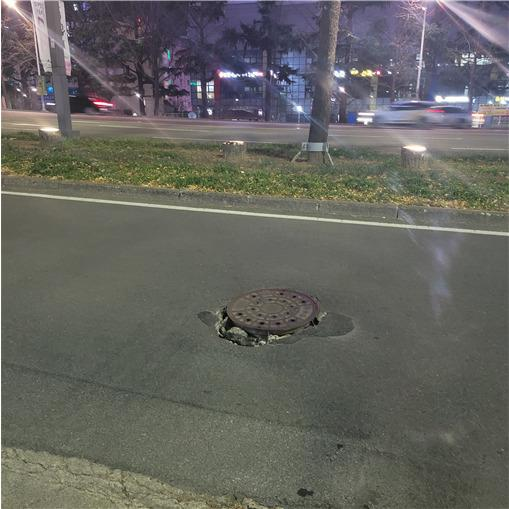pothole: (193, 305, 296, 354)
